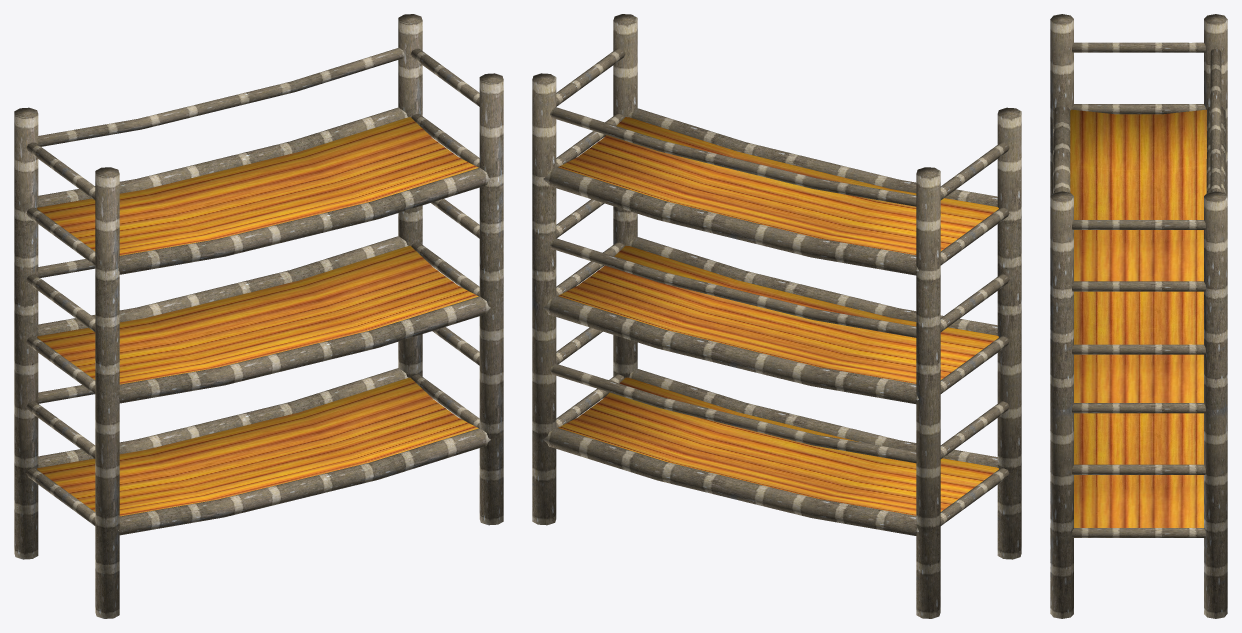
The model's file is shelf.fbx.
3 views of the same model, side by side, from view 1: azimuth 30°, elevation 25°; view 2: azimuth 150°, elevation 25°; view 3: azimuth 270°, elevation 25° (orthographic). The views are drawn at different scales.
Visible parts, largest first — view 1: Mesh; view 2: Mesh; view 3: Mesh.
Part boxes in pixels (bbox=[...]): Mesh: bbox=[14, 14, 503, 618]; Mesh: bbox=[532, 14, 1021, 618]; Mesh: bbox=[1050, 14, 1227, 618].
Size of the model in its own units: 264 by 275 by 106.
